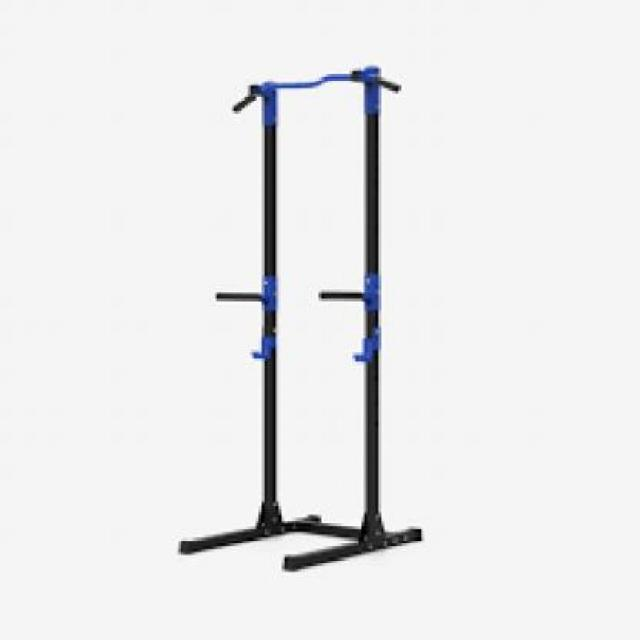chinning dipping: (182, 65, 423, 572)
